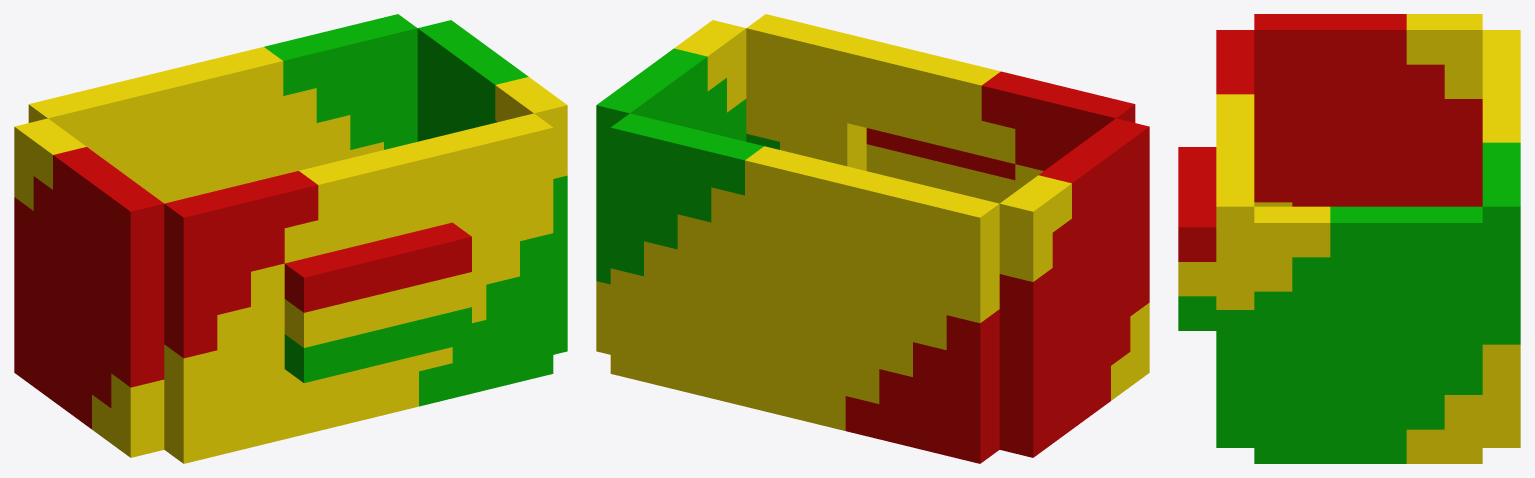
File: accessories_clothes_rasta.glb
The picture shows the model from 3 angles, left to right: view 1: azimuth 30°, elevation 25°; view 2: azimuth 150°, elevation 25°; view 3: azimuth 270°, elevation 25°; orthographic projection. The views are drawn at different scales.
Parts seen in each view (by area): view 1: model_0; view 2: model_0; view 3: model_0.
Boxes of the visible parts, x1,y1,x2,y2 form: model_0: (14,14,567,463); model_0: (596,14,1149,463); model_0: (1178,14,1520,463).
Bounding box in the file's own units: 13 × 7 × 9.
